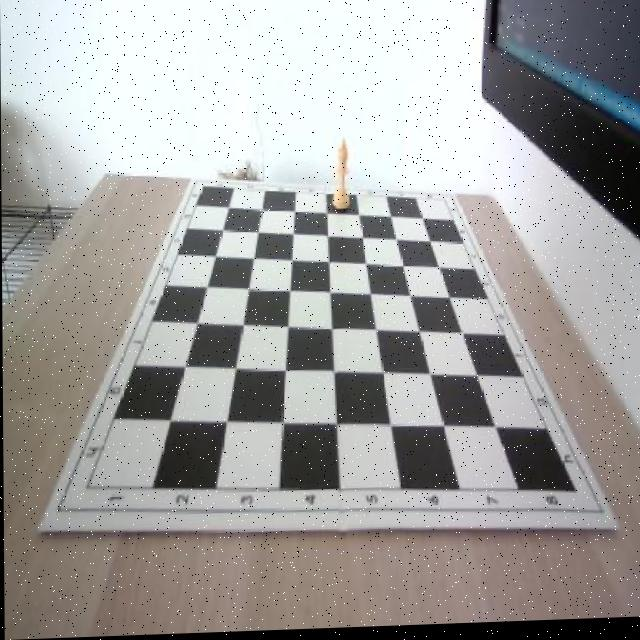black-rook: (332, 139, 350, 212)
